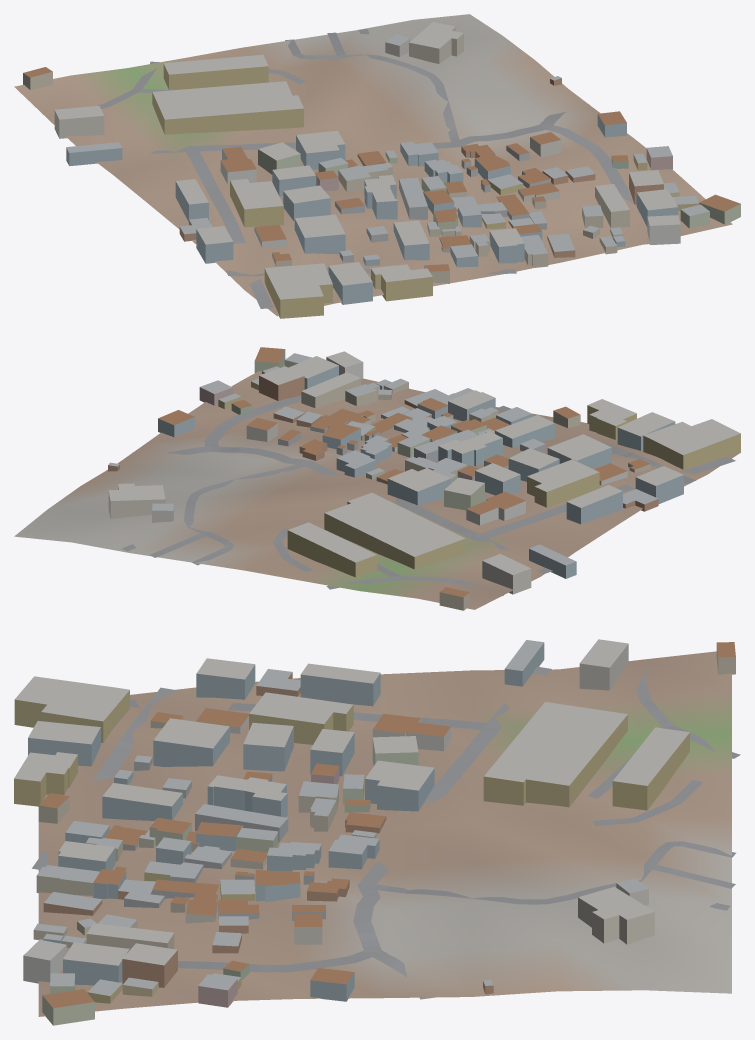
3 renders of one model, top to bottom at view 1: azimuth 30°, elevation 25°; view 2: azimuth 150°, elevation 25°; view 3: azimuth 270°, elevation 25°, orthographic. The views are drawn at different scales.
Parts seen in each view (by area): view 1: Lo; view 2: Lo; view 3: Lo.
Part boxes in pixels (left/top/right/bottom): Lo: left=14, top=14, right=740, bottom=318; Lo: left=14, top=347, right=740, bottom=610; Lo: left=14, top=639, right=740, bottom=1025.
Bounding box in the file's own units: 276 × 36.42 × 268.
